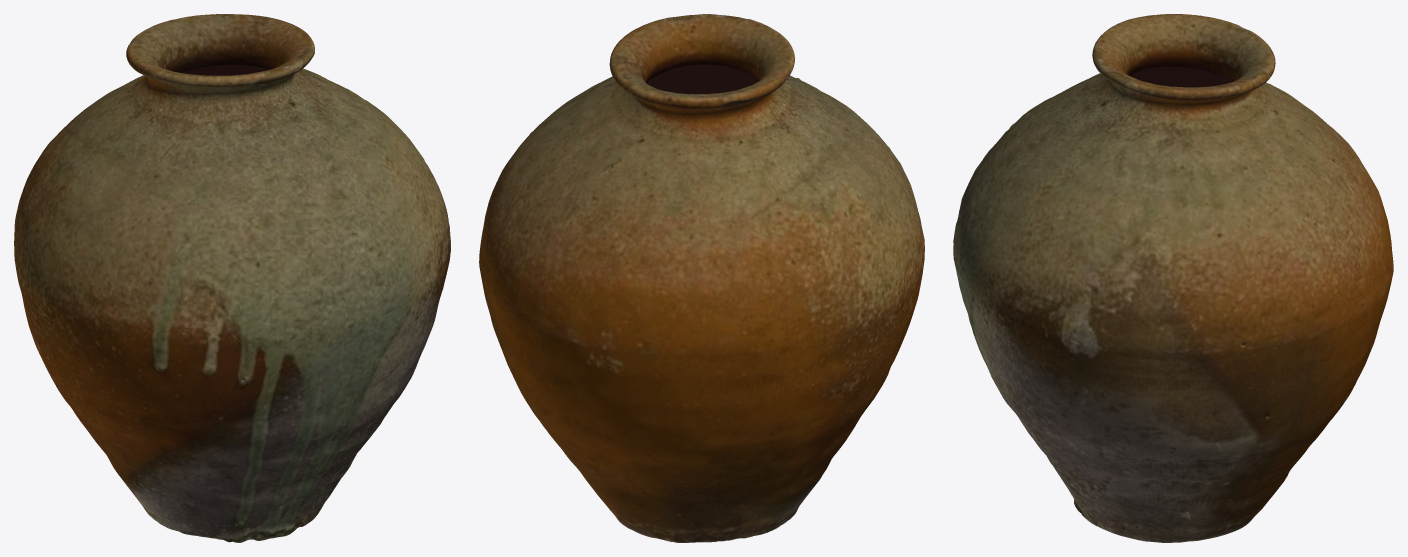
Rendered from cma-tamba-storage-jar.glb.
The picture shows the model from 3 angles, left to right: view 1: azimuth 30°, elevation 25°; view 2: azimuth 150°, elevation 25°; view 3: azimuth 270°, elevation 25°; orthographic projection.
Visible parts, largest first — view 1: 2002.66_storage_jar_tamba_ware; view 2: 2002.66_storage_jar_tamba_ware; view 3: 2002.66_storage_jar_tamba_ware.
Part boxes in pixels (x1,y1,x2,y2): 2002.66_storage_jar_tamba_ware: (14,14,450,542); 2002.66_storage_jar_tamba_ware: (479,14,924,542); 2002.66_storage_jar_tamba_ware: (953,14,1393,542).
Size of the model in its own units: 0.3877 by 0.45 by 0.3914.
1 material, 1 textured.
